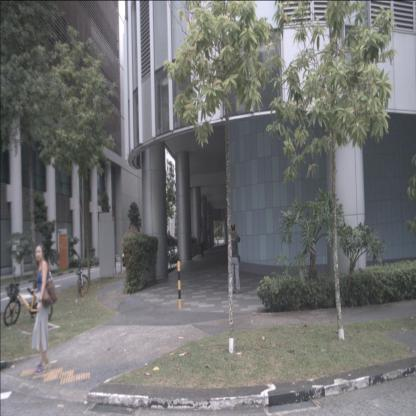human-pedestrian-adult: (32, 244, 57, 375), (229, 223, 241, 294), (198, 226, 206, 258)
vehicle-bicycle: (3, 266, 54, 326), (78, 259, 90, 297)
